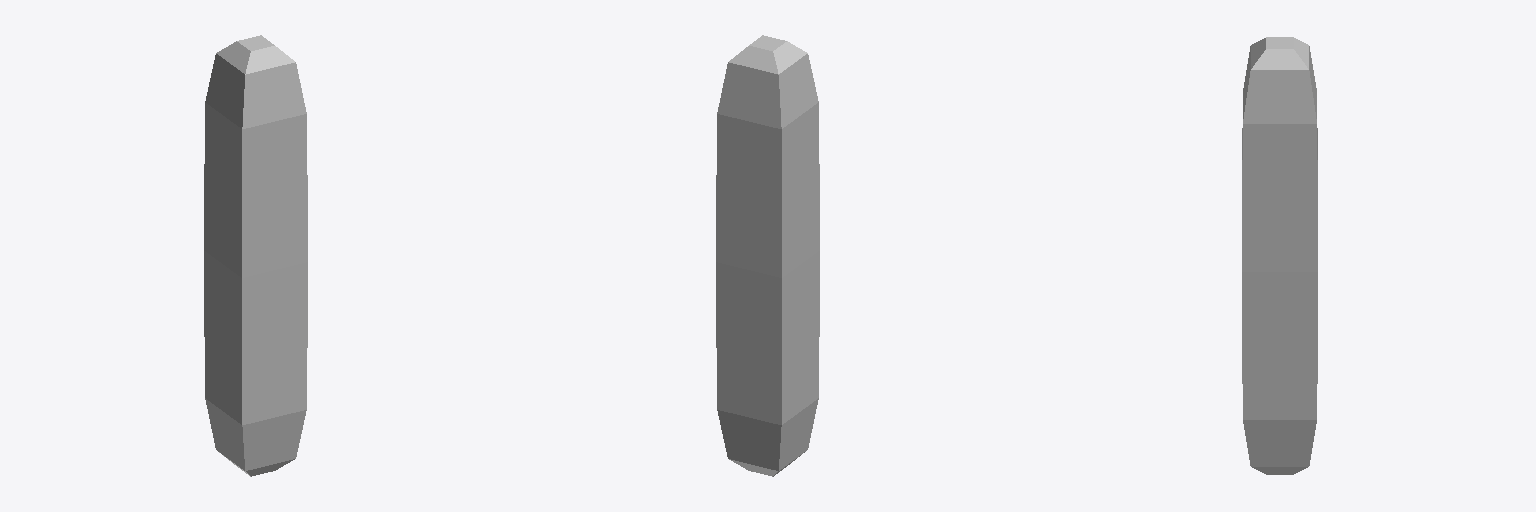
File: LeftToeBase.obj
The picture shows the model from 3 angles: view 1: azimuth 30°, elevation 25°; view 2: azimuth 150°, elevation 25°; view 3: azimuth 270°, elevation 25°; orthographic projection.
Parts seen in each view (by area): view 1: ../rami/model/LeftToeBase; view 2: ../rami/model/LeftToeBase; view 3: ../rami/model/LeftToeBase.
Part boxes in pixels (x1,y1,x2,y2): ../rami/model/LeftToeBase: (204, 35, 307, 476); ../rami/model/LeftToeBase: (716, 35, 819, 476); ../rami/model/LeftToeBase: (1242, 37, 1317, 474).
Bounding box in the file's own units: 0.29 × 1.77 × 0.29.